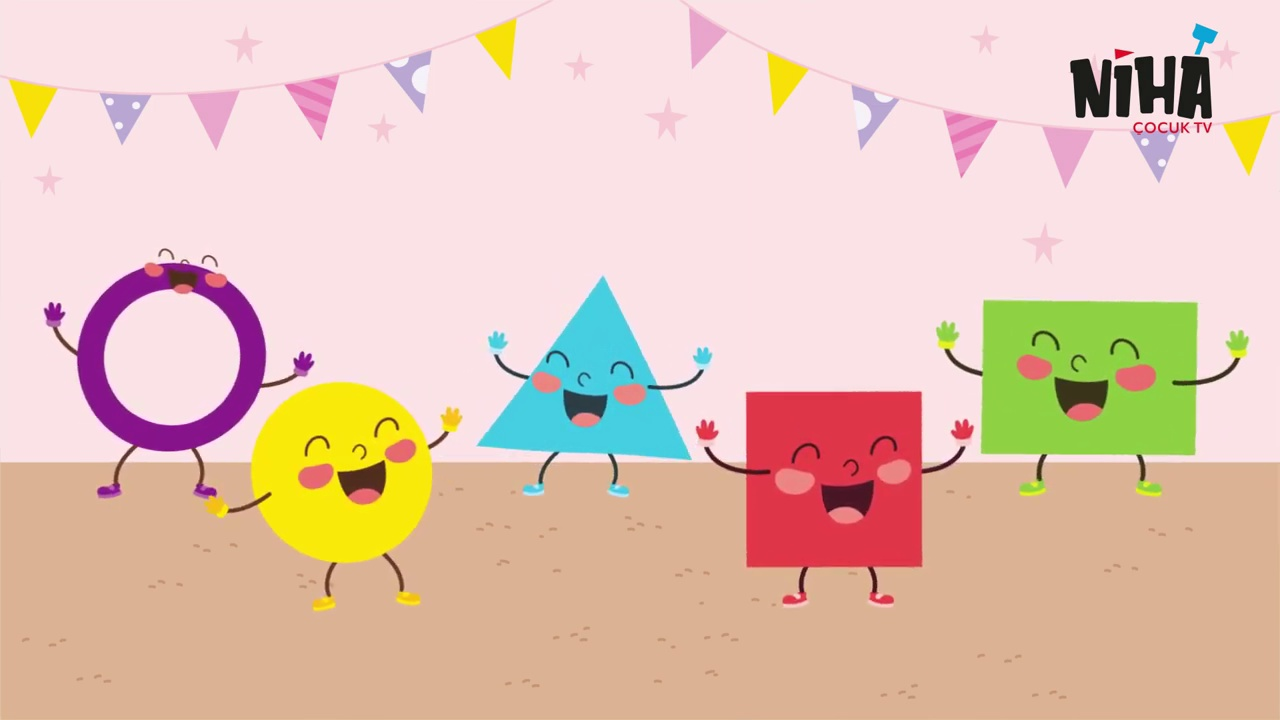daire: (67, 261, 265, 452), (252, 385, 433, 561)
dikdortgen: (973, 293, 1203, 462)
kare: (742, 389, 934, 570)
ucgen: (463, 271, 699, 479)
